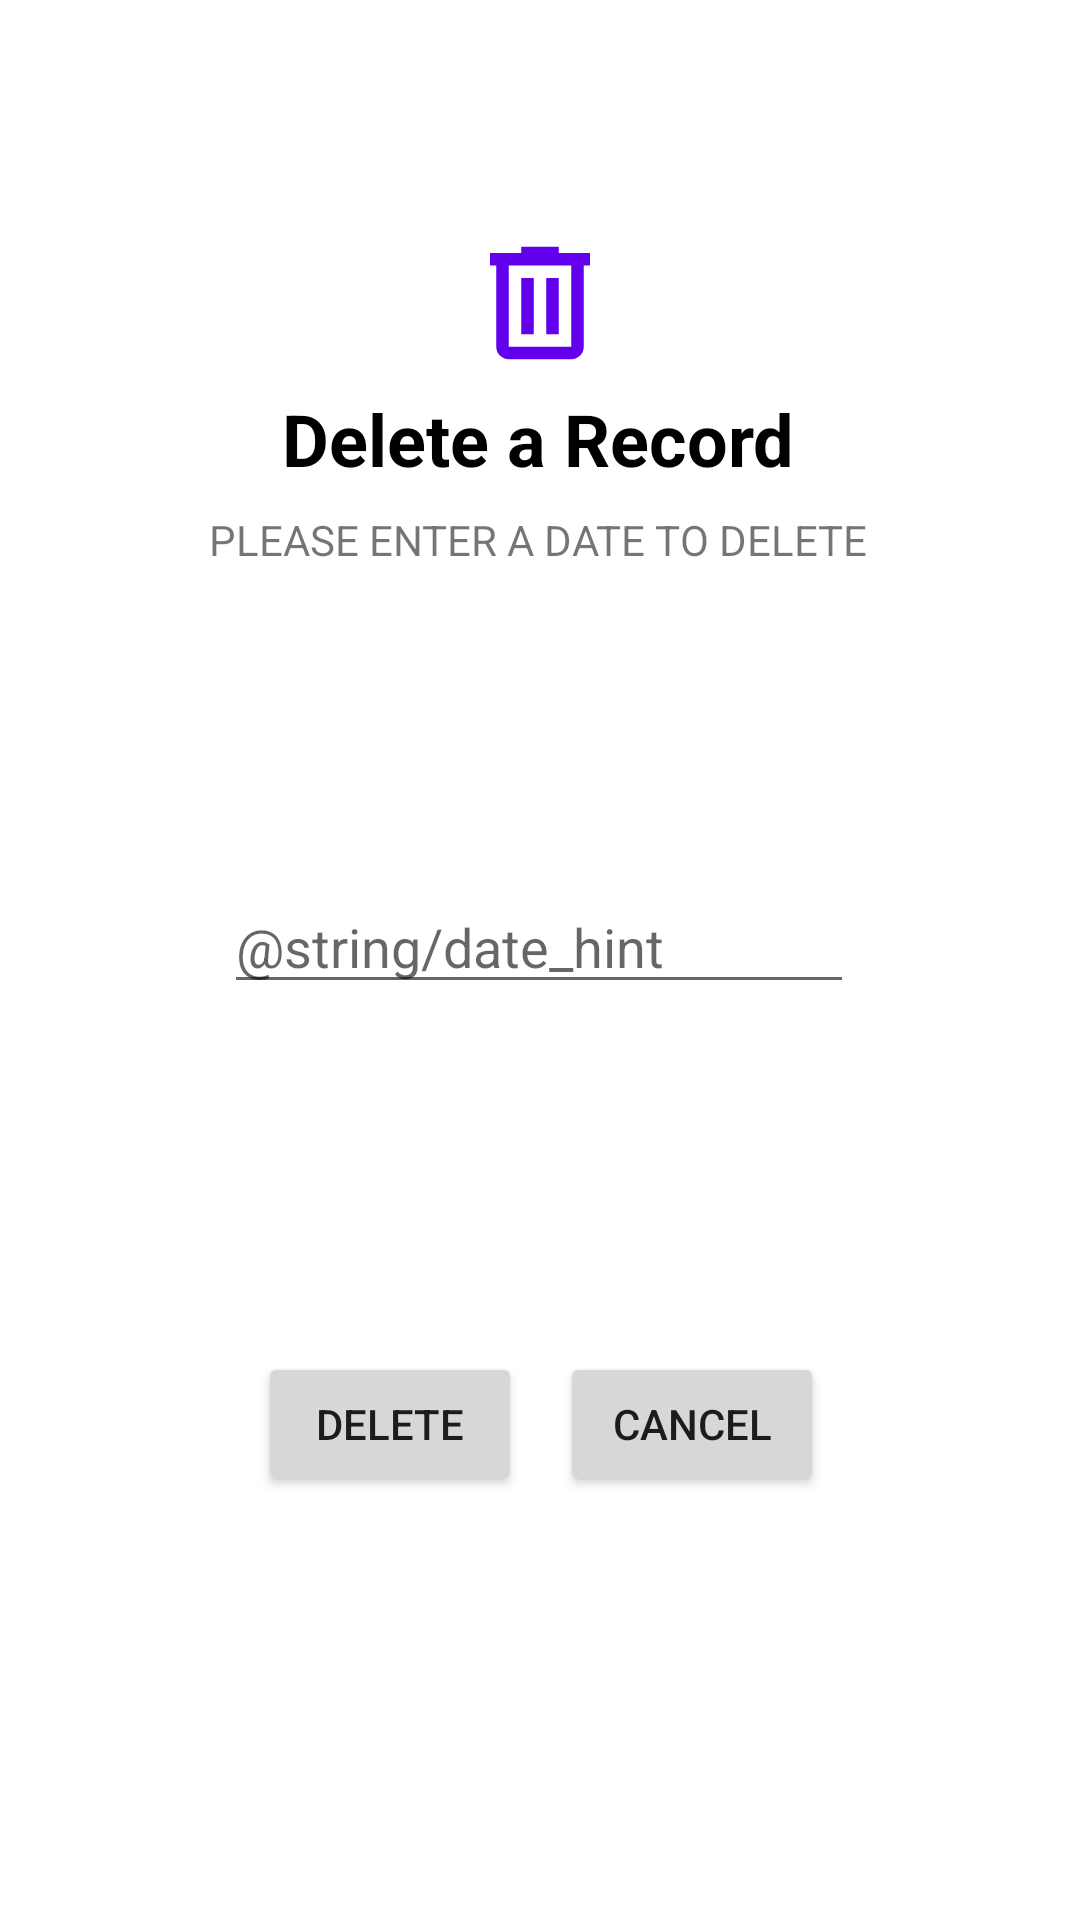

Icon click points for this 1080px×1920px phone screenshot, format point (x, y):
trash can: point (540, 303)
